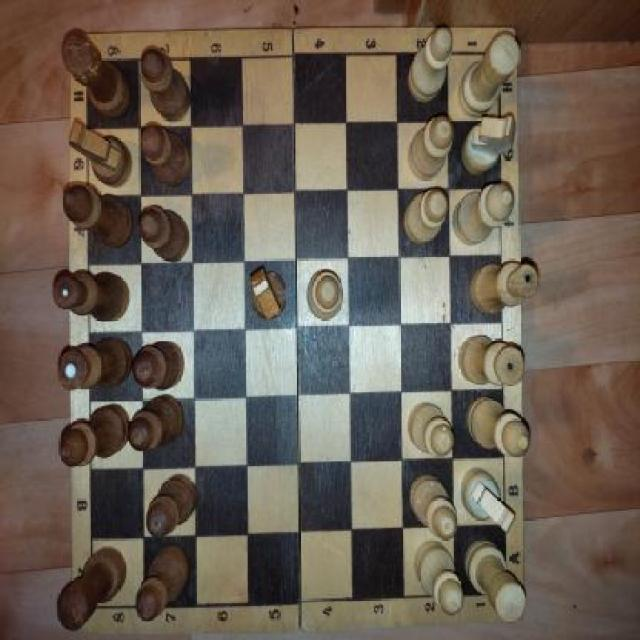chess-table-corners: (482, 558, 526, 622), (474, 26, 518, 88), (73, 575, 119, 634)
